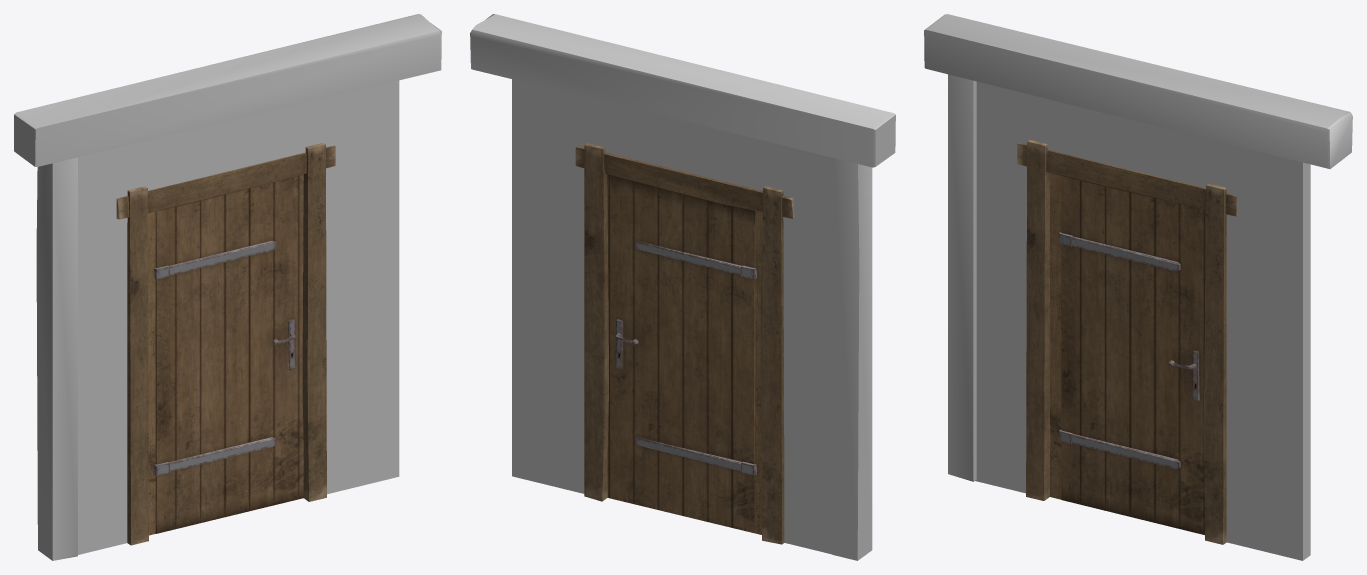
The model's file is SM_WallElement_11_LOD_02.FBX.
3 renders of one model, left to right at view 1: azimuth 30°, elevation 25°; view 2: azimuth 150°, elevation 25°; view 3: azimuth 330°, elevation 25°, orthographic.
Parts seen in each view (by area): view 1: SM_WallElement_11_LOD_02, SM_Door_01_LOD_02; view 2: SM_WallElement_11_LOD_02, SM_Door_01_LOD_02; view 3: SM_WallElement_11_LOD_02, SM_Door_01_LOD_02.
Part boxes in pixels (<box>): SM_WallElement_11_LOD_02: <box>14,14,441,560</box>; SM_Door_01_LOD_02: <box>154,174,303,533</box>; SM_WallElement_11_LOD_02: <box>470,14,895,560</box>; SM_Door_01_LOD_02: <box>607,174,756,533</box>; SM_WallElement_11_LOD_02: <box>924,14,1352,560</box>; SM_Door_01_LOD_02: <box>1059,175,1205,534</box>.
Bounding box in the file's own units: 3 × 3.15 × 0.3069.
